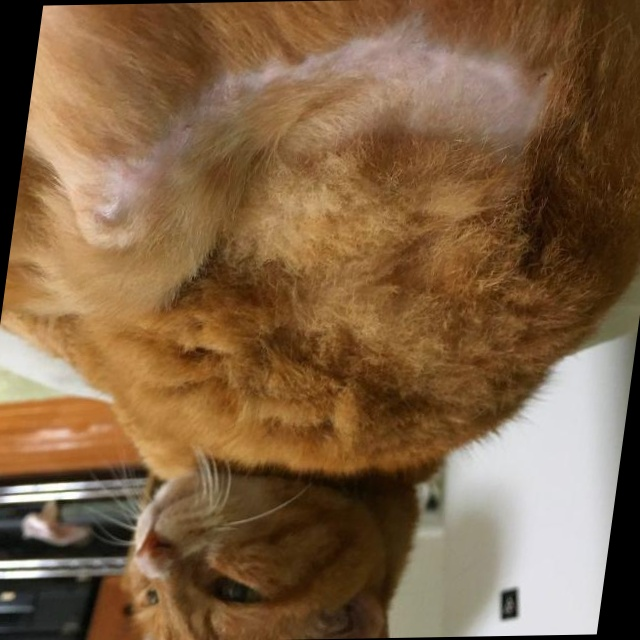hairloss: (313, 35, 532, 151)
